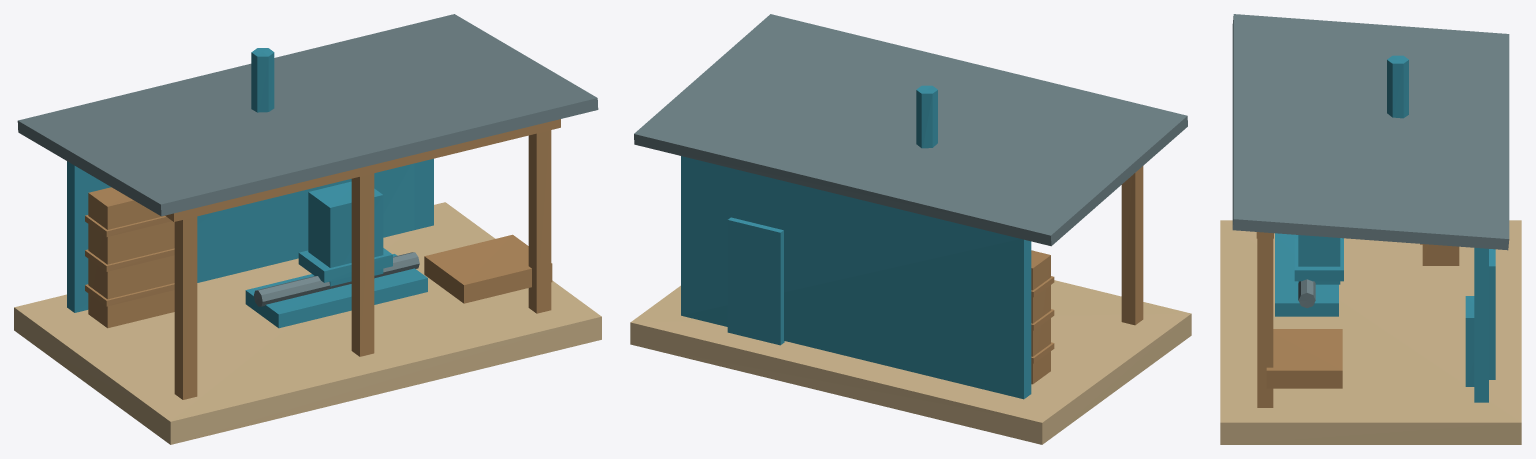
The model's file is packaging-house.source.glb.
3 renders of one model, left to right at view 1: azimuth 30°, elevation 25°; view 2: azimuth 150°, elevation 25°; view 3: azimuth 270°, elevation 25°, orthographic. The views are drawn at different scales.
Parts seen in each view (by area): view 1: packaging-house-shallow-galvanized-packaging-roof-mesh, packaging-house-low-concrete-foundation-mesh, packaging-house-timber-service-bay-post-mesh (×3), packaging-house-pale-panel-rear-shell-mesh, packaging-house-sturdy-empty-input-shelf-mesh, packaging-house-empty-carton-output-platform-mesh, packaging-house-neutral-sealing-labeling-head-mesh, packaging-house-short-exposed-conveyor-frame-mesh, packaging-house-timber-service-bay-beam-mesh, packaging-house-small-air-power-box-mesh, packaging-house-empty-input-shelf-level-mesh (×3), packaging-house-thin-packaging-vent-mesh (+2 smaller); view 2: packaging-house-shallow-galvanized-packaging-roof-mesh, packaging-house-pale-panel-rear-shell-mesh, packaging-house-low-concrete-foundation-mesh, packaging-house-simple-service-door-mesh, packaging-house-timber-service-bay-post-mesh, packaging-house-sturdy-empty-input-shelf-mesh, packaging-house-thin-packaging-vent-mesh; view 3: packaging-house-shallow-galvanized-packaging-roof-mesh, packaging-house-low-concrete-foundation-mesh, packaging-house-empty-carton-output-platform-mesh, packaging-house-short-exposed-conveyor-frame-mesh, packaging-house-timber-service-bay-post-mesh, packaging-house-pale-panel-rear-shell-mesh, packaging-house-neutral-sealing-labeling-head-mesh, packaging-house-thin-packaging-vent-mesh, packaging-house-unprinted-sealing-jaw-mesh, packaging-house-simple-service-door-mesh, packaging-house-small-air-power-box-mesh, packaging-house-sturdy-empty-input-shelf-mesh (+1 smaller).
Part boxes in pixels (<box>): packaging-house-shallow-galvanized-packaging-roof-mesh: <box>17,14,598,216</box>; packaging-house-low-concrete-foundation-mesh: <box>14,202,601,444</box>; packaging-house-timber-service-bay-post-mesh (×3): <box>174,130,551,399</box>; packaging-house-pale-panel-rear-shell-mesh: <box>67,158,433,312</box>; packaging-house-sturdy-empty-input-shelf-mesh: <box>88,187,174,328</box>; packaging-house-empty-carton-output-platform-mesh: <box>424,234,552,303</box>; packaging-house-neutral-sealing-labeling-head-mesh: <box>308,181,383,286</box>; packaging-house-short-exposed-conveyor-frame-mesh: <box>245,254,427,328</box>; packaging-house-timber-service-bay-beam-mesh: <box>165,119,560,221</box>; packaging-house-small-air-power-box-mesh: <box>374,163,414,237</box>; packaging-house-empty-input-shelf-level-mesh (×3): <box>85,215,174,306</box>; packaging-house-thin-packaging-vent-mesh: <box>251,48,274,112</box>; packaging-house-shallow-galvanized-packaging-roof-mesh: <box>634,14,1187,246</box>; packaging-house-pale-panel-rear-shell-mesh: <box>681,156,1031,399</box>; packaging-house-low-concrete-foundation-mesh: <box>630,280,1191,444</box>; packaging-house-simple-service-door-mesh: <box>727,217,784,345</box>; packaging-house-timber-service-bay-post-mesh: <box>1121,166,1143,325</box>; packaging-house-sturdy-empty-input-shelf-mesh: <box>1031,250,1050,384</box>; packaging-house-thin-packaging-vent-mesh: <box>916,85,937,148</box>; packaging-house-shallow-galvanized-packaging-roof-mesh: <box>1232,14,1509,250</box>; packaging-house-low-concrete-foundation-mesh: <box>1220,220,1521,444</box>; packaging-house-empty-carton-output-platform-mesh: <box>1266,329,1342,388</box>; packaging-house-short-exposed-conveyor-frame-mesh: <box>1275,233,1338,316</box>; packaging-house-timber-service-bay-post-mesh: <box>1257,238,1273,407</box>; packaging-house-pale-panel-rear-shell-mesh: <box>1474,247,1488,402</box>; packaging-house-neutral-sealing-labeling-head-mesh: <box>1298,235,1340,284</box>; packaging-house-thin-packaging-vent-mesh: <box>1387,55,1408,118</box>; packaging-house-unprinted-sealing-jaw-mesh: <box>1294,238,1343,281</box>; packaging-house-simple-service-door-mesh: <box>1489,249,1495,379</box>; packaging-house-small-air-power-box-mesh: <box>1465,296,1474,386</box>; packaging-house-sturdy-empty-input-shelf-mesh: <box>1422,244,1459,265</box>.
Size of the model in its own units: 3.95 by 2.42 by 2.45.
